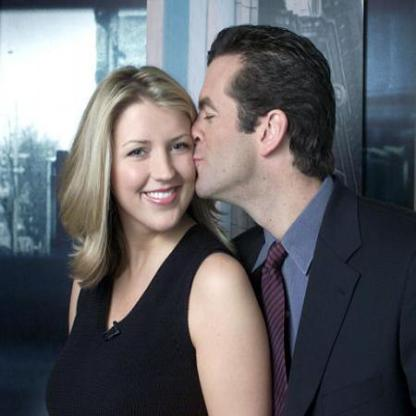face: (180, 33, 269, 206), (107, 72, 200, 235)
